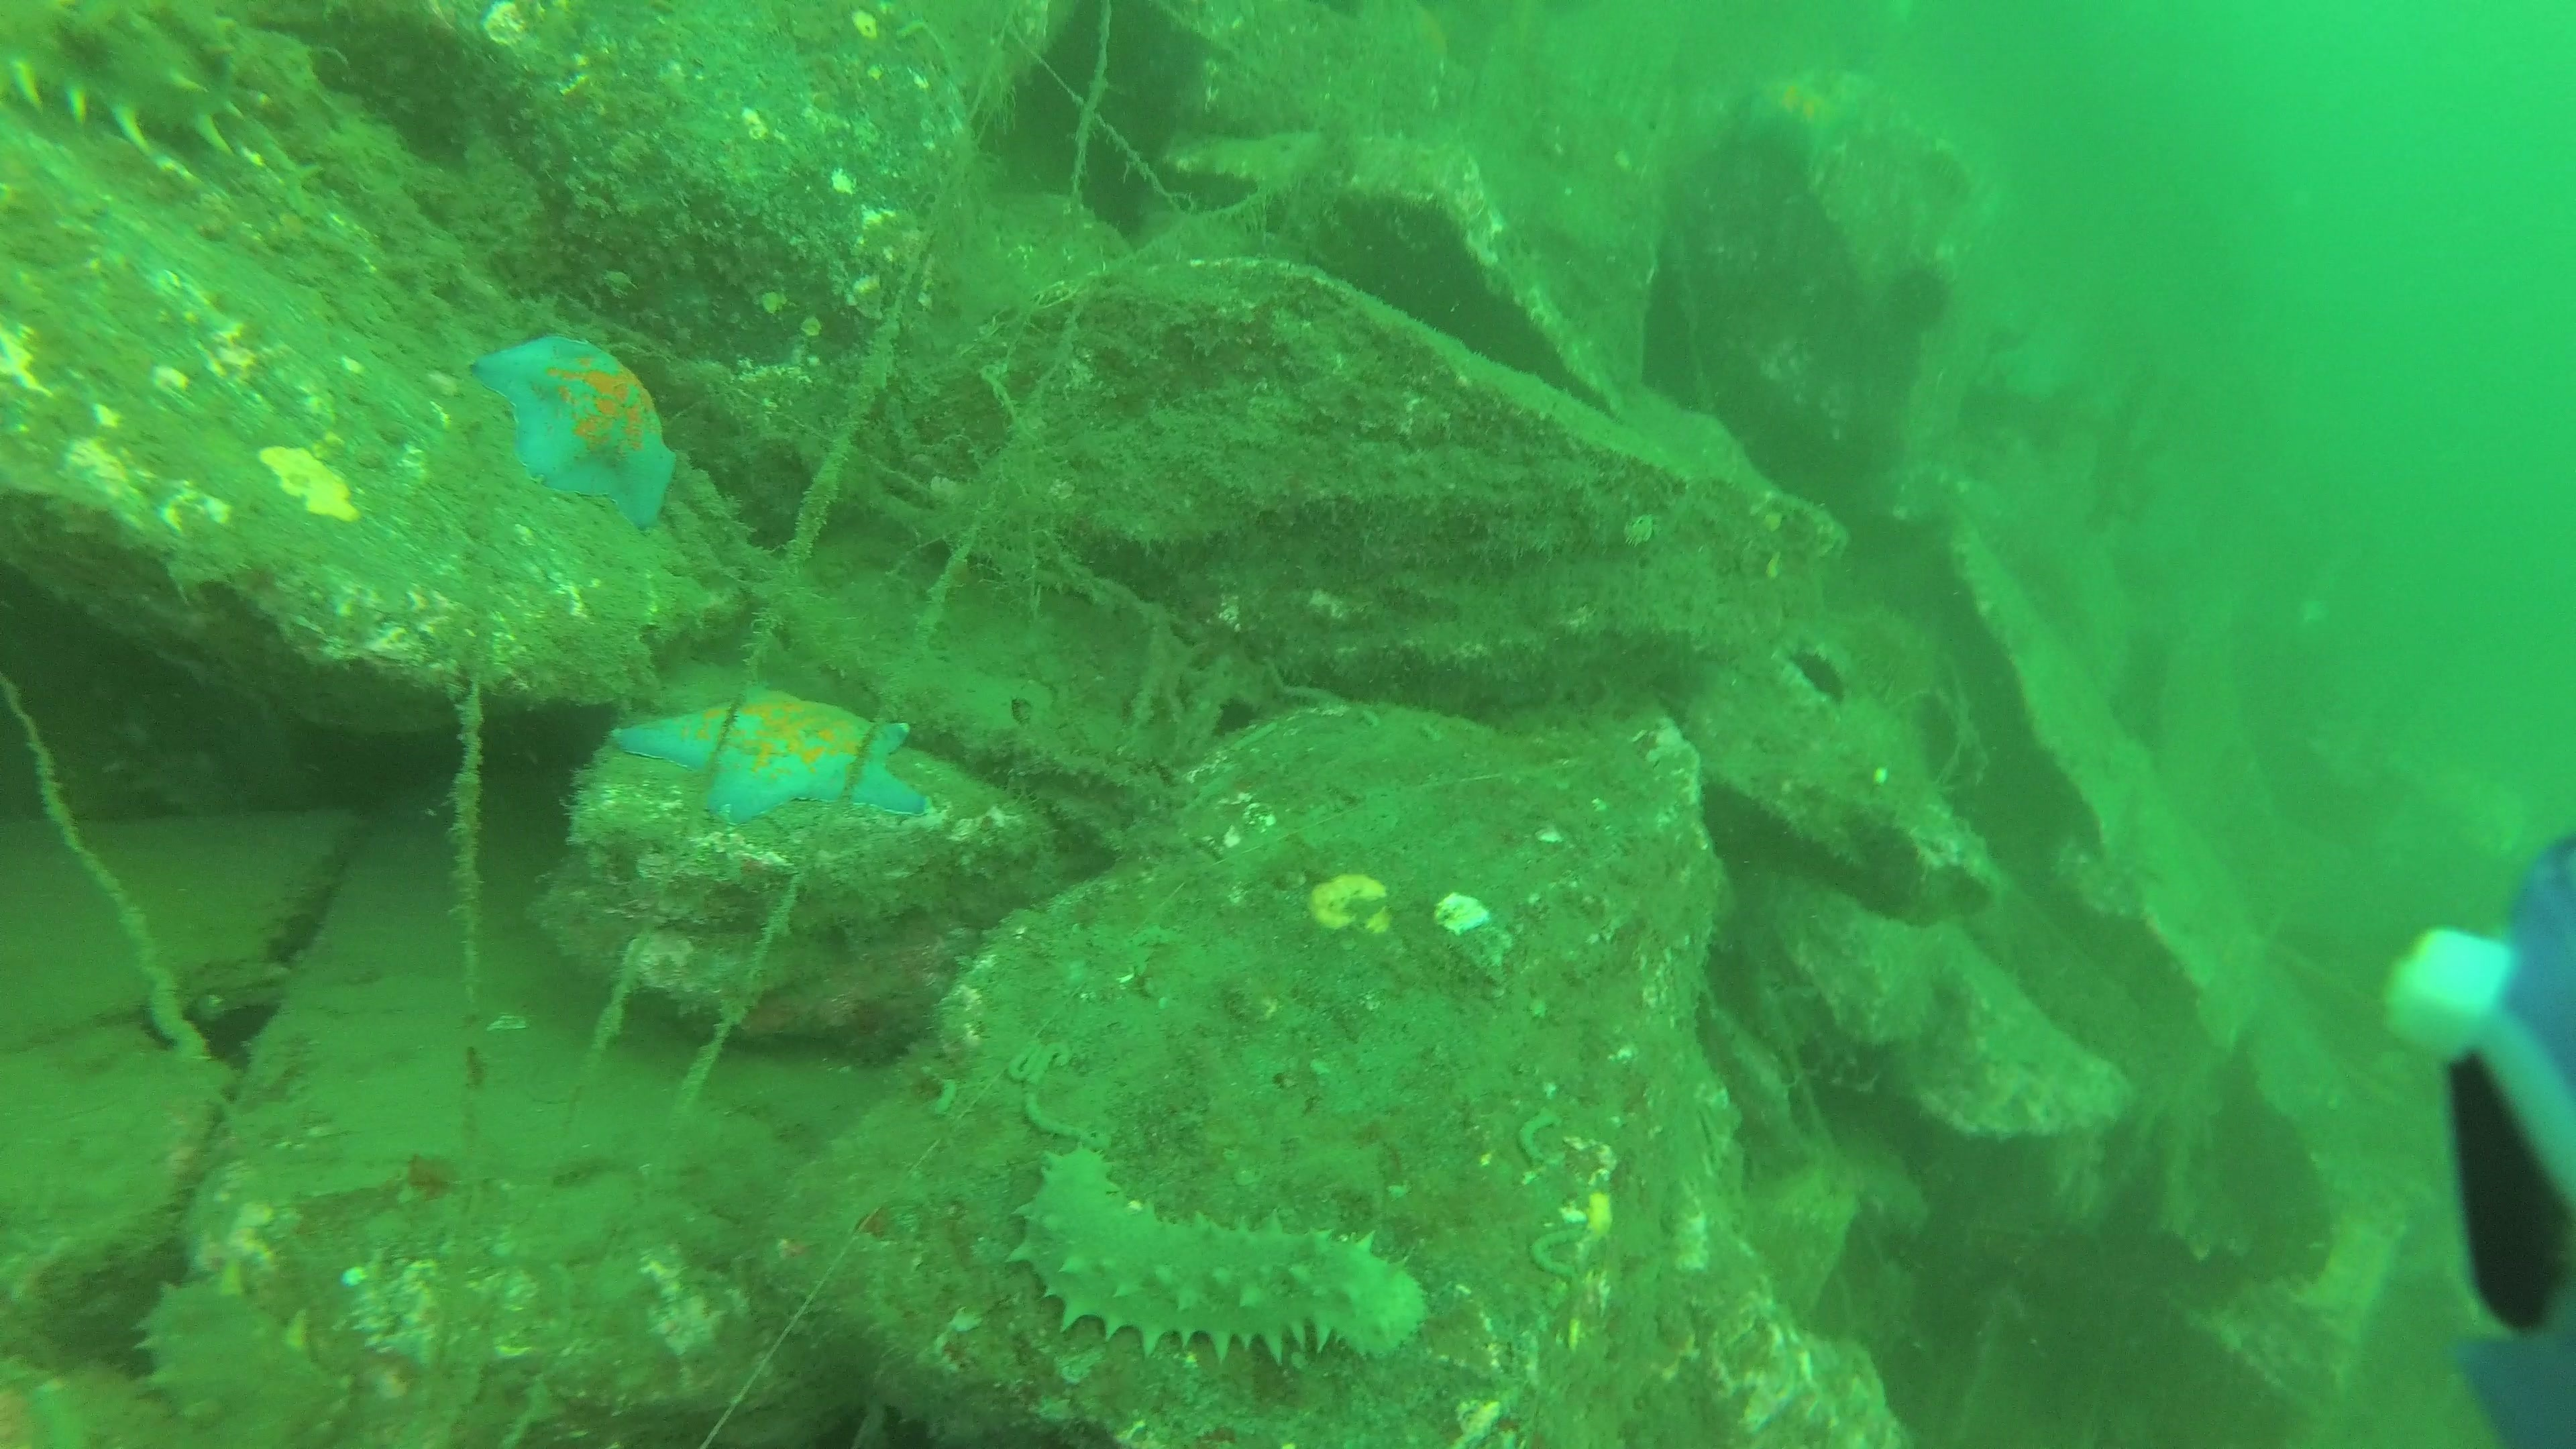holothurian: (996, 1141, 1433, 1368), (115, 1254, 458, 1449), (0, 0, 343, 195)
starfish: (602, 681, 939, 835), (469, 327, 681, 534)
